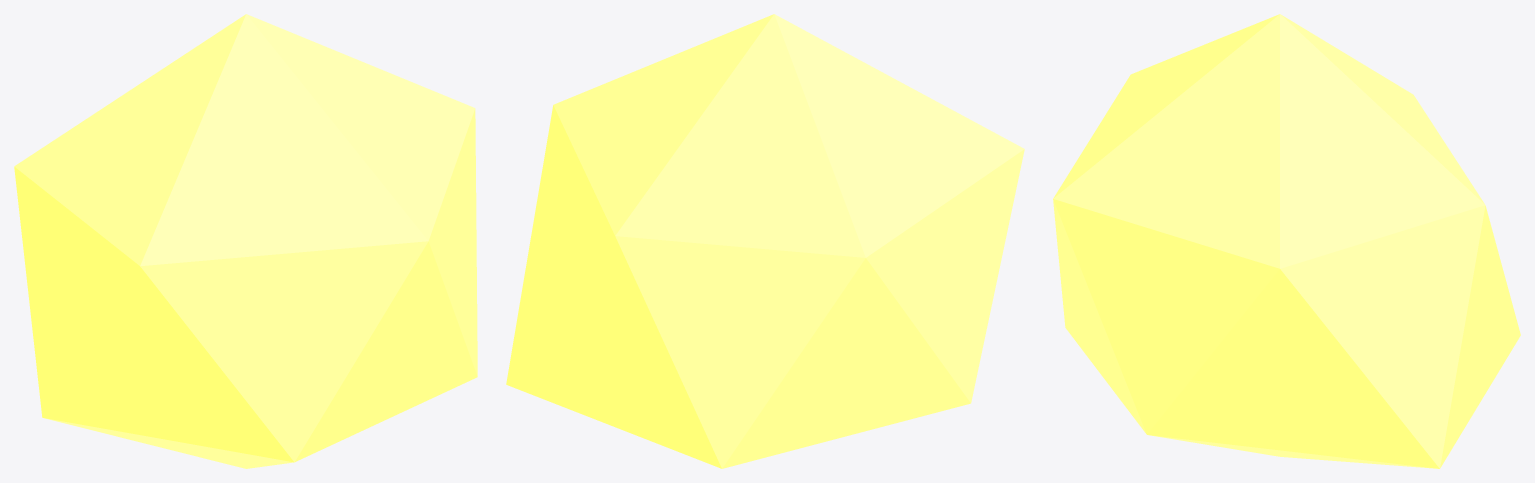
Rendered from chunk-resin.glb.
The picture shows the model from 3 angles, left to right: view 1: azimuth 30°, elevation 25°; view 2: azimuth 150°, elevation 25°; view 3: azimuth 270°, elevation 25°; orthographic projection. The views are drawn at different scales.
Visible parts, largest first — view 1: chunk-resin; view 2: chunk-resin; view 3: chunk-resin.
Boxes of the visible parts, left/top/right/bottom form: chunk-resin: left=14, top=14, right=477, bottom=468; chunk-resin: left=506, top=14, right=1024, bottom=468; chunk-resin: left=1053, top=14, right=1520, bottom=468.
Size of the model in its own units: 0.1734 by 0.174 by 0.1666.
